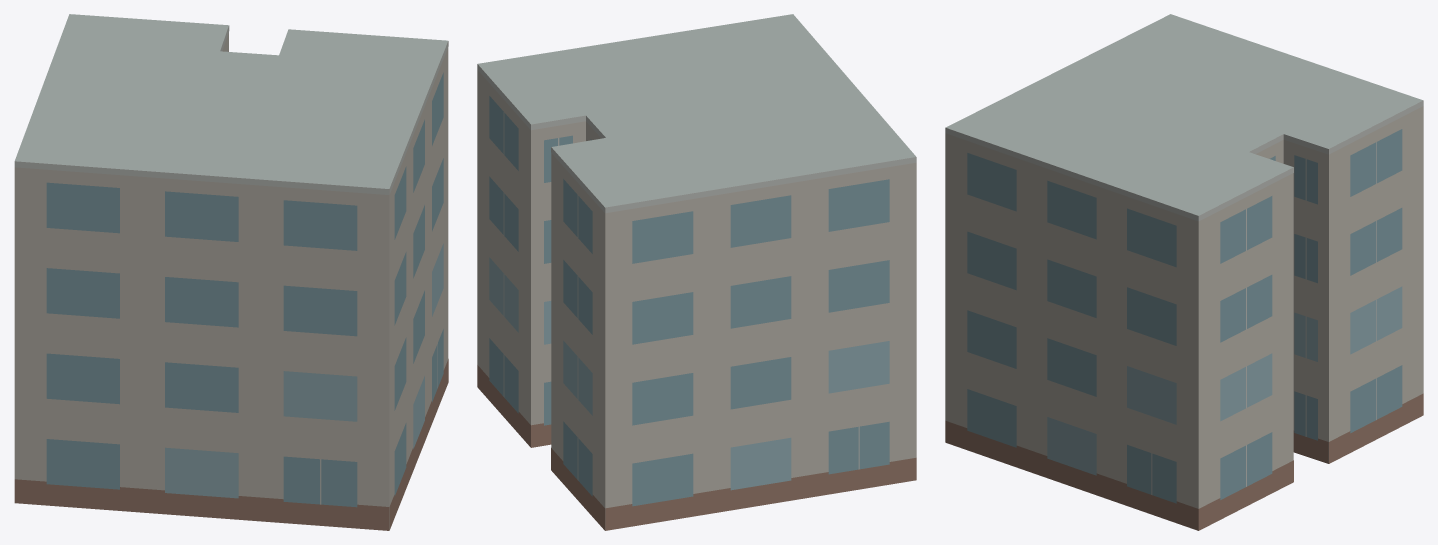
The model's file is survey-upis-32671521.glb.
3 renders of one model, left to right at view 1: azimuth 30°, elevation 25°; view 2: azimuth 150°, elevation 25°; view 3: azimuth 270°, elevation 25°, orthographic. The views are drawn at different scales.
Parts seen in each view (by area): view 1: survey-upis-32671521.tmp; view 2: survey-upis-32671521.tmp; view 3: survey-upis-32671521.tmp.
Part boxes in pixels (x1=…): survey-upis-32671521.tmp: x1=14, y1=14, x2=448, y2=530; survey-upis-32671521.tmp: x1=477, y1=14, x2=916, y2=530; survey-upis-32671521.tmp: x1=945, y1=14, x2=1423, y2=530.
Bounding box in the file's own units: 18.98 × 13.8 × 18.99.
